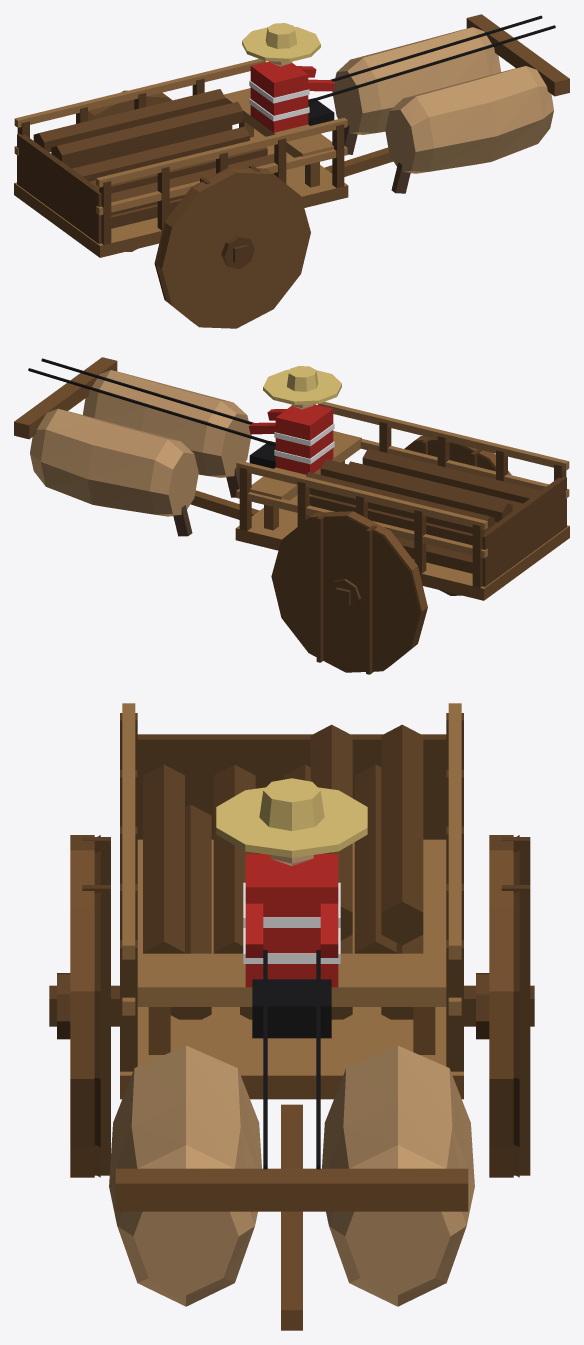
File: carreta_bueyes_body.obj
3 renders of one model, top to bottom at view 1: azimuth 30°, elevation 25°; view 2: azimuth 150°, elevation 25°; view 3: azimuth 270°, elevation 25°, orthographic. The views are drawn at different scales.
Visible parts, largest first — view 1: carreta_bueyes_body; view 2: carreta_bueyes_body; view 3: carreta_bueyes_body.
Boxes of the visible parts, x1=… form: carreta_bueyes_body: x1=14, y1=14, x2=569, y2=328; carreta_bueyes_body: x1=14, y1=357, x2=569, y2=674; carreta_bueyes_body: x1=49, y1=703, x2=534, y2=1330.
Bounding box in the file's own units: 5.15 × 2.35 × 2.2.
